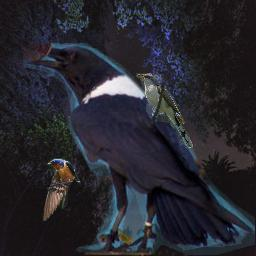Crow: (23, 43, 255, 255)
Cuckoo: (136, 73, 193, 148)
Swallow: (42, 158, 81, 221)
